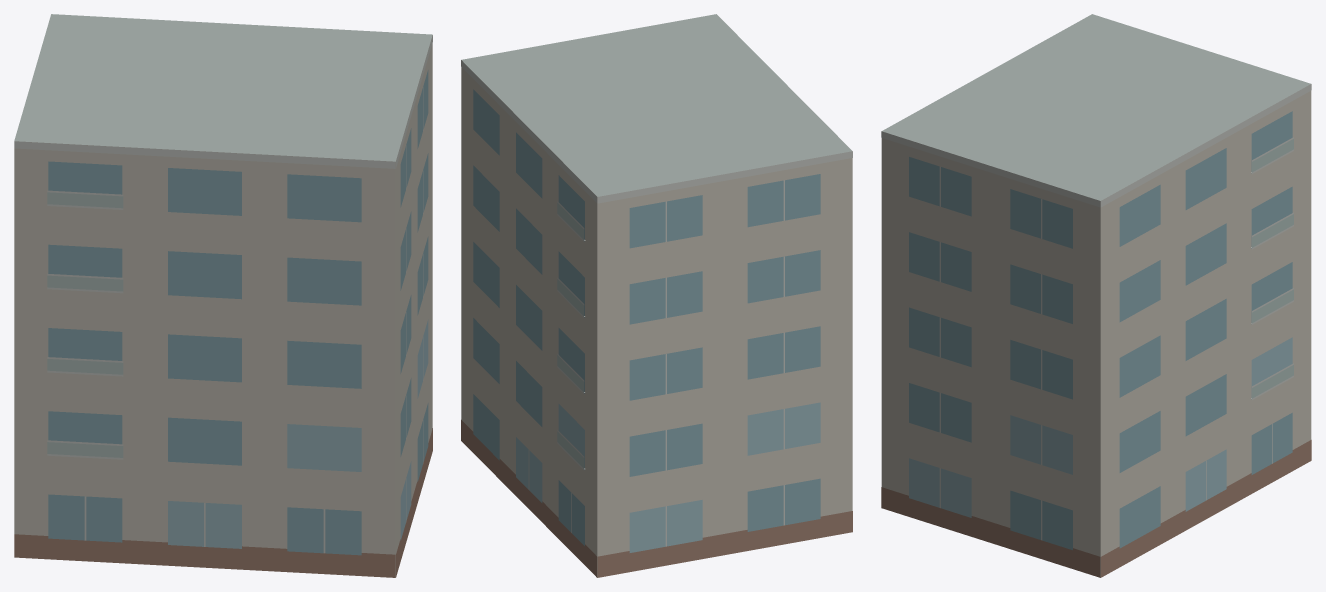
The model's file is survey-upis-32846925.glb.
3 views of the same model, side by side, from view 1: azimuth 30°, elevation 25°; view 2: azimuth 150°, elevation 25°; view 3: azimuth 270°, elevation 25° (orthographic). The views are drawn at different scales.
Parts seen in each view (by area): view 1: survey-upis-32846925.tmp; view 2: survey-upis-32846925.tmp; view 3: survey-upis-32846925.tmp.
Boxes of the visible parts, <box> form: survey-upis-32846925.tmp: <box>14,14,432,577</box>; survey-upis-32846925.tmp: <box>461,14,852,577</box>; survey-upis-32846925.tmp: <box>881,14,1311,577</box>.
Size of the model in its own units: 14.8 by 13.9 by 14.38.
